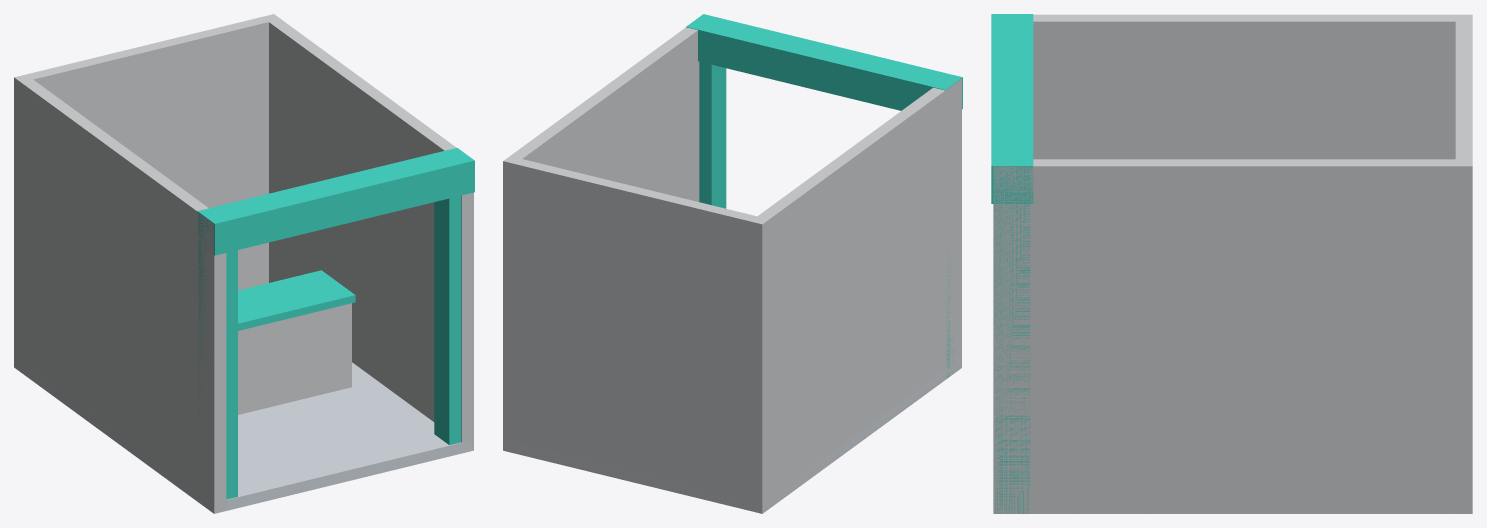
The picture shows the model from 3 angles, left to right: view 1: azimuth 30°, elevation 25°; view 2: azimuth 150°, elevation 25°; view 3: azimuth 270°, elevation 25°; orthographic projection. The views are drawn at different scales.
Visible parts, largest first — view 1: Exhibition Booth Concept; view 2: Exhibition Booth Concept; view 3: Exhibition Booth Concept.
Part boxes in pixels (x1,y1,x2,y2): Exhibition Booth Concept: (14,14,474,513); Exhibition Booth Concept: (503,14,962,513); Exhibition Booth Concept: (991,14,1472,513).
Bounding box in the file's own units: 3 × 3.2 × 4.02.
